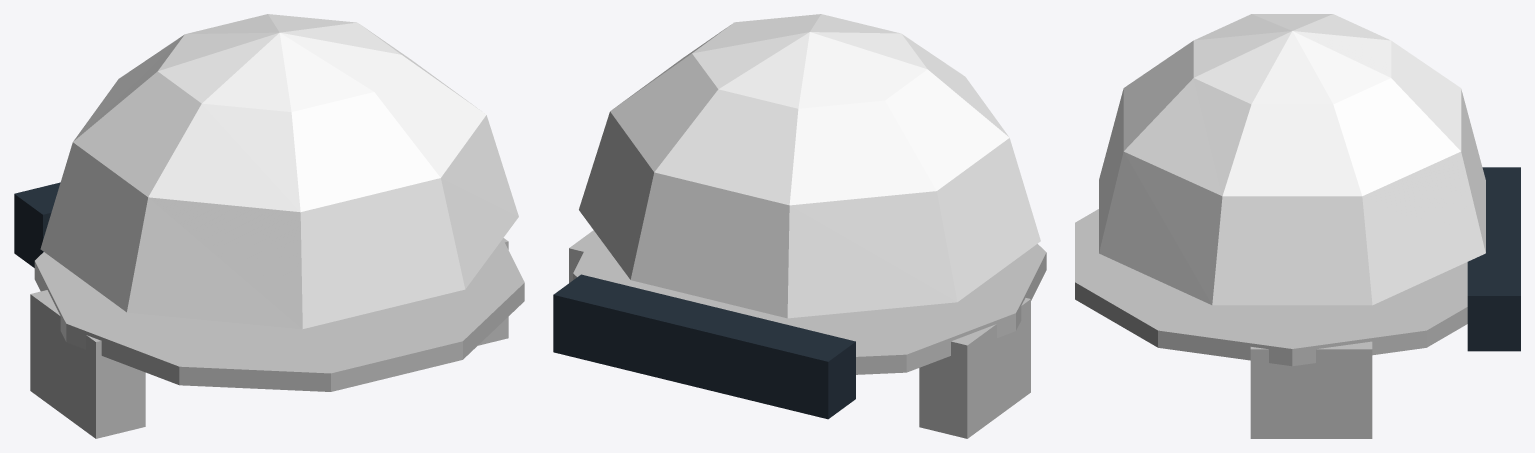
The model's file is person_hat_combat.obj.
3 views of the same model, side by side, from view 1: azimuth 30°, elevation 25°; view 2: azimuth 150°, elevation 25°; view 3: azimuth 270°, elevation 25° (orthographic). The views are drawn at different scales.
Visible parts, largest first — view 1: person_hat_combat; view 2: person_hat_combat; view 3: person_hat_combat.
Boxes of the visible parts, <box> form: person_hat_combat: <box>14,14,524,438</box>; person_hat_combat: <box>553,14,1046,438</box>; person_hat_combat: <box>1075,14,1520,438</box>.
Size of the model in its own units: 0.6 by 0.4559 by 0.5853.
